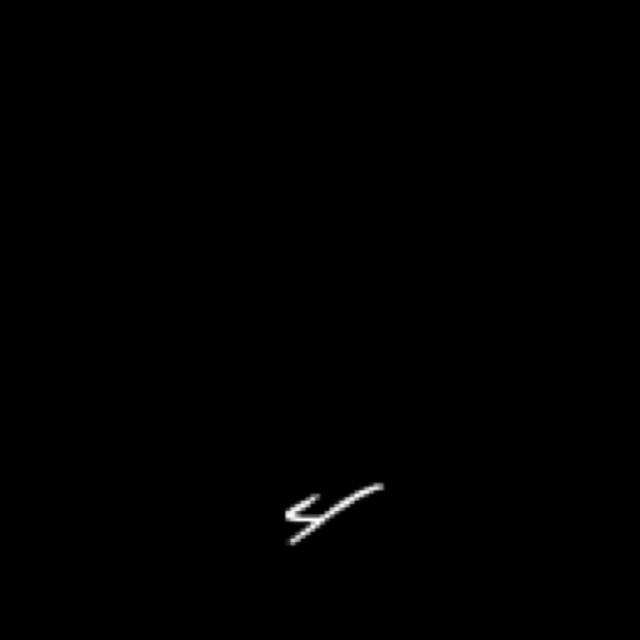four -4-: (265, 464, 390, 568)
